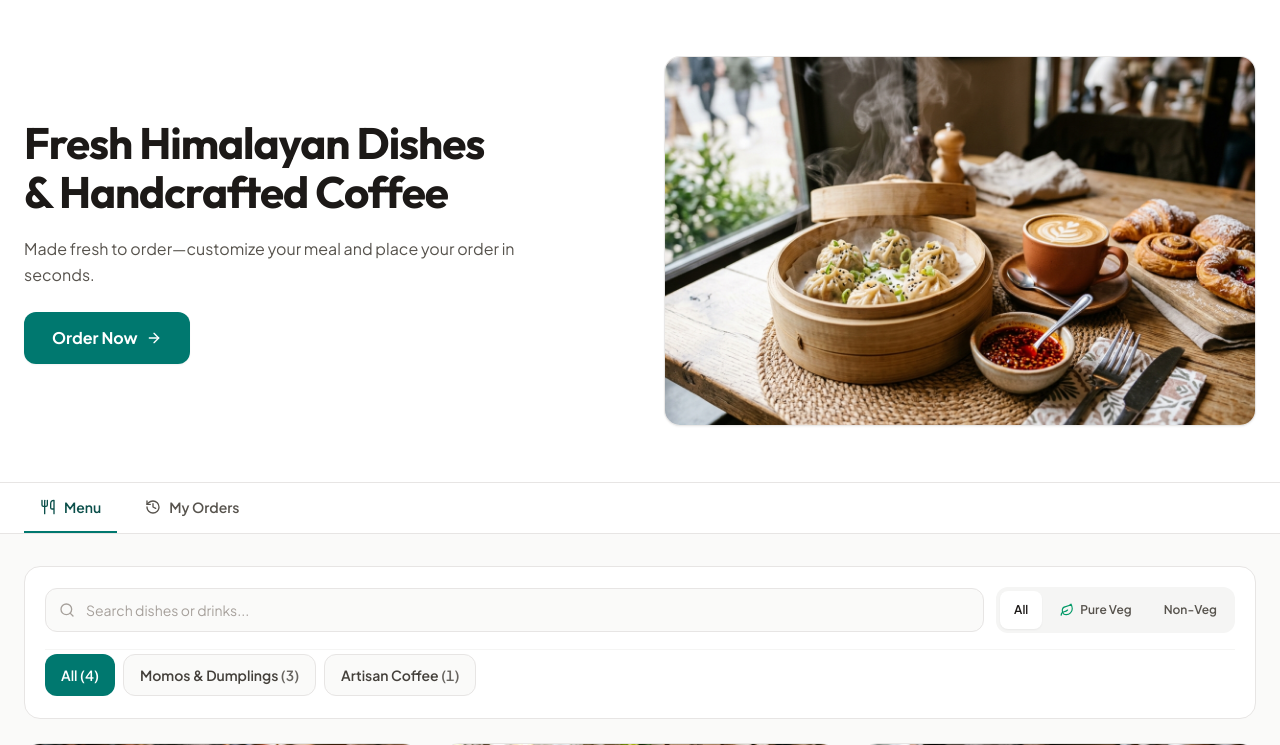
it: CustomerMenu Ordering Flow, Filters, Cart Math & Clean Copy › filters by category, search query, Pure Veg (including vegan), Non-Veg, and resets cleanly
This screenshot has width=1280, height=745.
// Pure Veg includes both 'veg' and 'vegan', excluding 'egg' and 'non-veg'
Click the button "Pure Veg". click: (1096, 610)
box: [1046,591,1146,629]
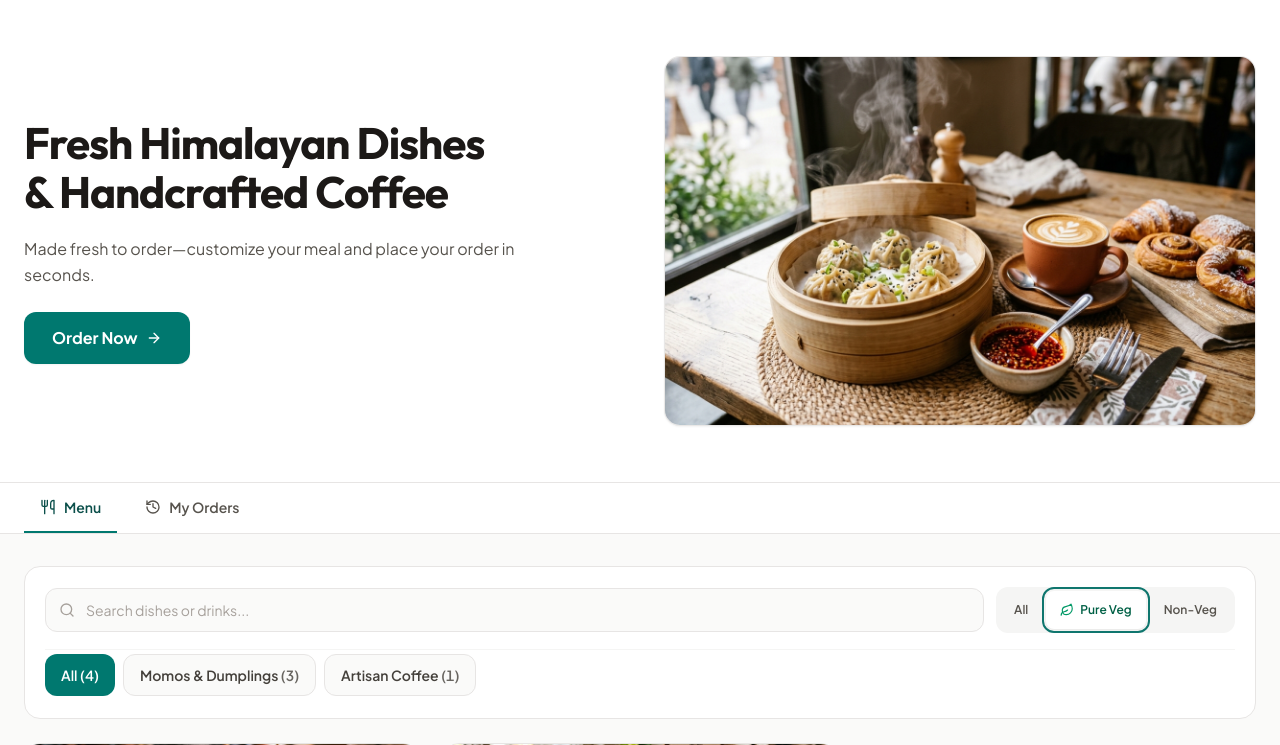
// Non-Veg includes 'non-veg' and 'egg'
Click the button "Non-Veg". click: (1190, 610)
box: [1150,591,1231,629]
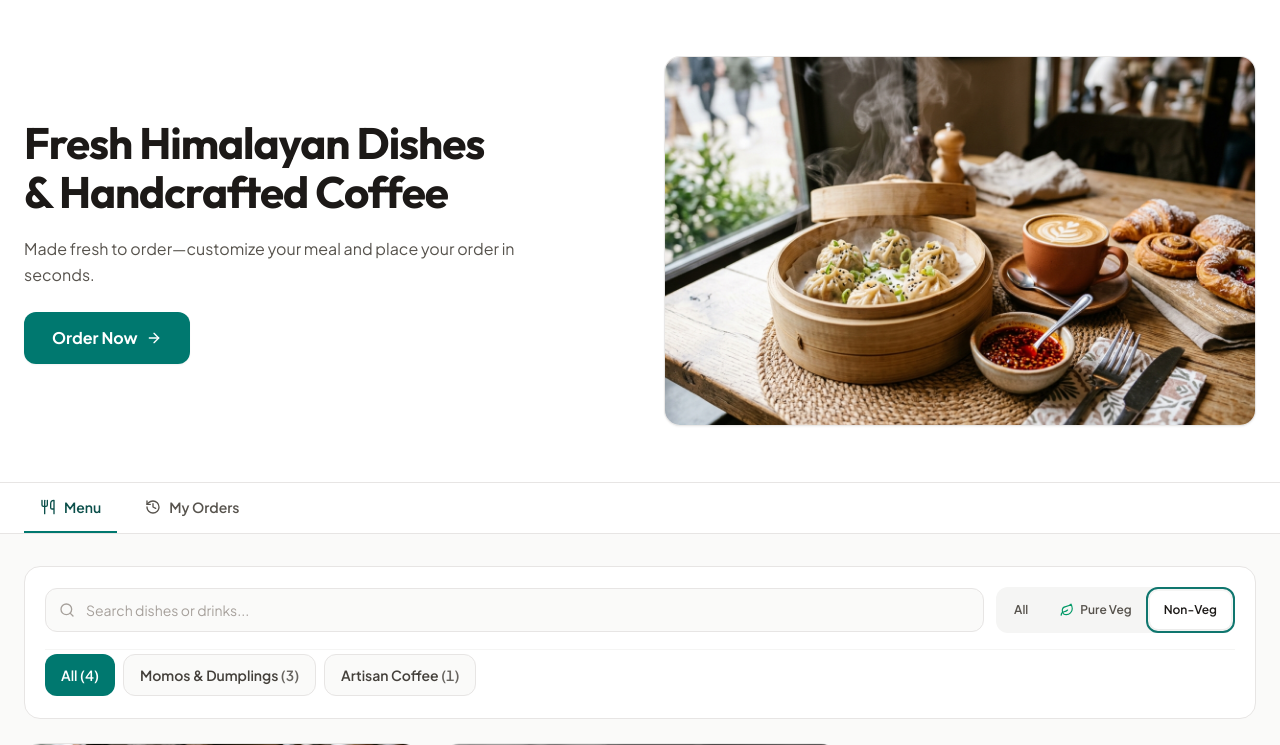
// Search with no matches shows empty state and Show All Items resets all filters
Type "zzz-nonexistent-dish" into the field labelled "Search dishes or drinks...". click: (515, 610)
box: [45,588,984,632]
(page scrolled)
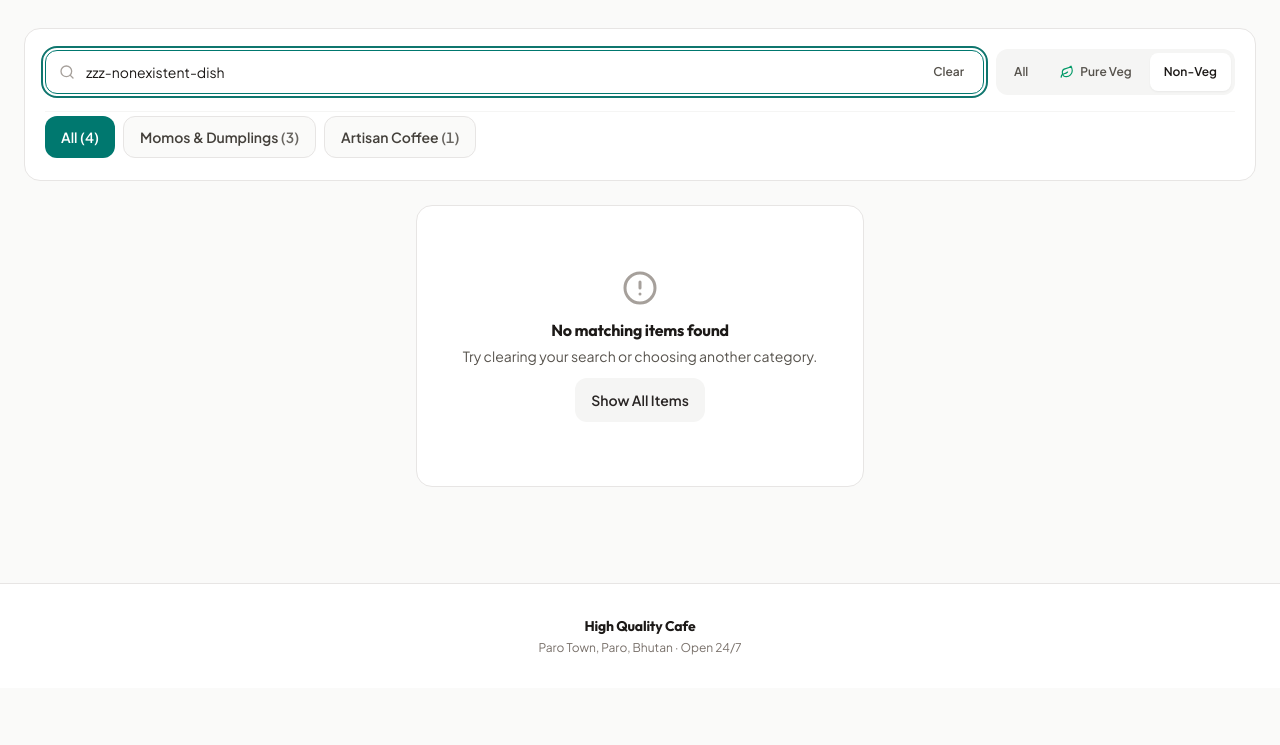
Check: the heading "No matching items found" is shown, box [551,320,729,340]
Click the button "Show All Items". click: (640, 400)
box: [575,378,705,422]
(page scrolled)
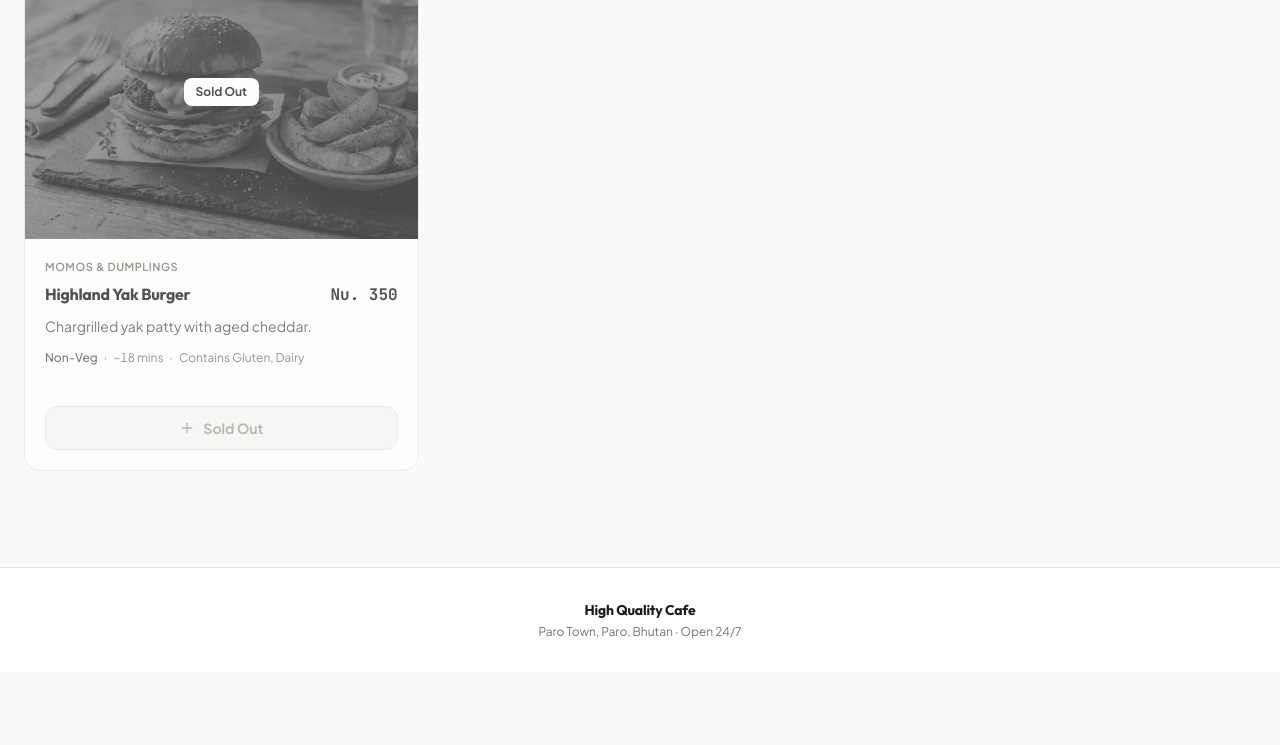
Check: the button "Sold Out" is disabled, box [45,406,398,450]
